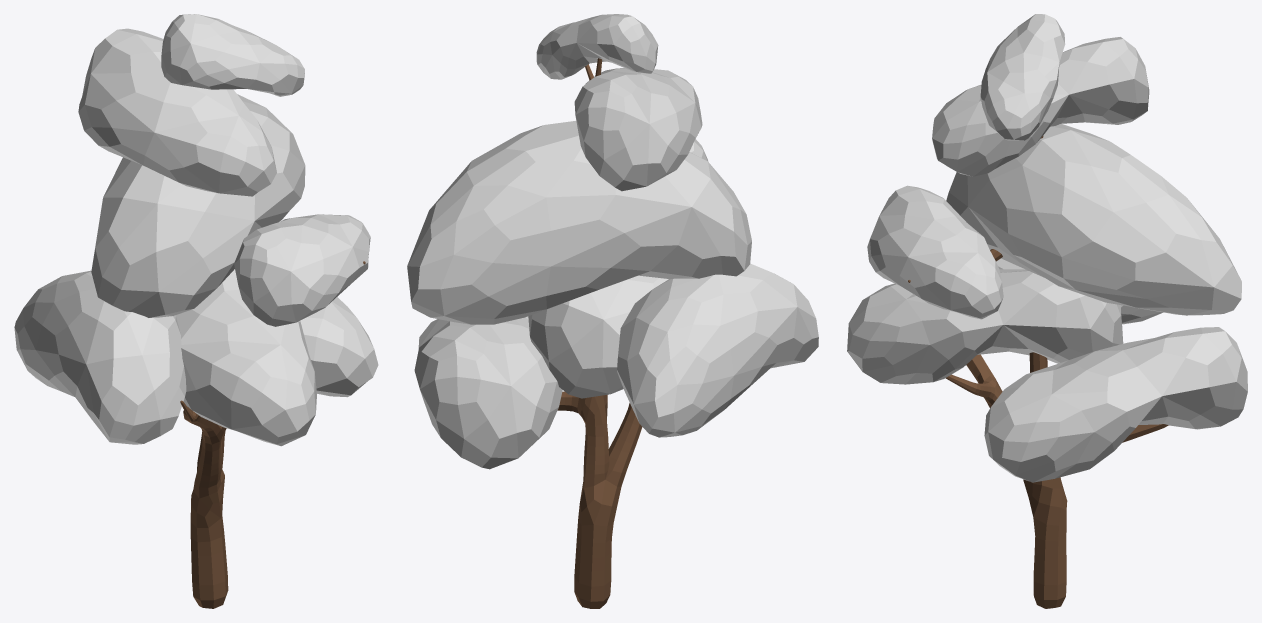
The model's file is StandardTree.fbx.
The picture shows the model from 3 angles, left to right: view 1: azimuth 30°, elevation 25°; view 2: azimuth 150°, elevation 25°; view 3: azimuth 270°, elevation 25°; orthographic projection. The views are drawn at different scales.
Parts seen in each view (by area): view 1: Icosphere, Plane.011; view 2: Icosphere, Plane.011; view 3: Icosphere, Plane.011.
Part boxes in pixels (box(x1,y1,x2,y2)): Icosphere: box(14, 14, 378, 446); Plane.011: box(180, 261, 365, 608); Icosphere: box(407, 14, 818, 469); Plane.011: box(557, 58, 642, 608); Icosphere: box(847, 14, 1247, 482); Plane.011: box(908, 135, 1168, 608).
Size of the model in its own units: 437 by 492 by 785.
